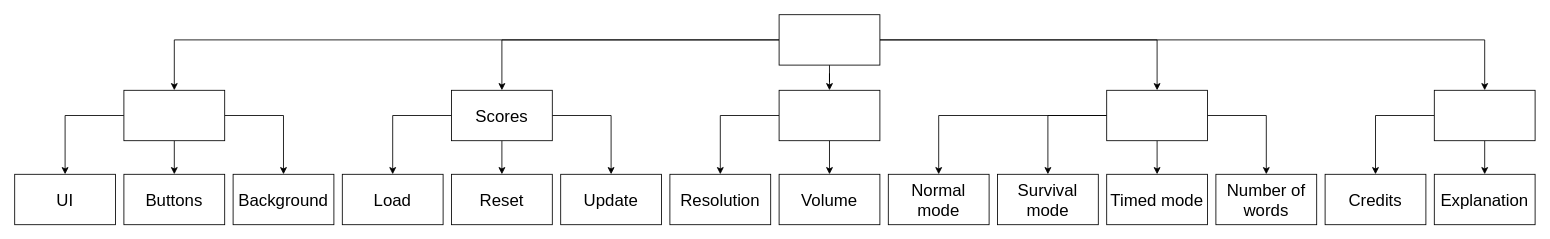
The diagram is 1550 pixels wide and 239 high, and some of its shapes have lost their labels. The centre of each missing label's shape, as x and y in pixels:
About: (x=1484, y=115)
Menu: (x=174, y=115)
Selection: (x=1157, y=115)
Settings: (x=829, y=115)
wahtype: (x=829, y=39)
